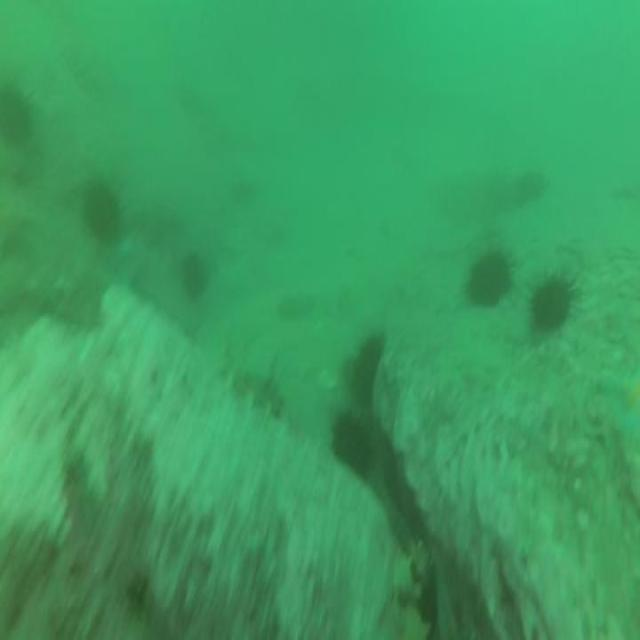echinus: (329, 404, 380, 488), (525, 267, 579, 340), (465, 238, 514, 314), (350, 326, 390, 417), (80, 177, 126, 245), (0, 81, 35, 150), (178, 243, 209, 305)
holothurian: (220, 352, 287, 420), (397, 534, 433, 640)
